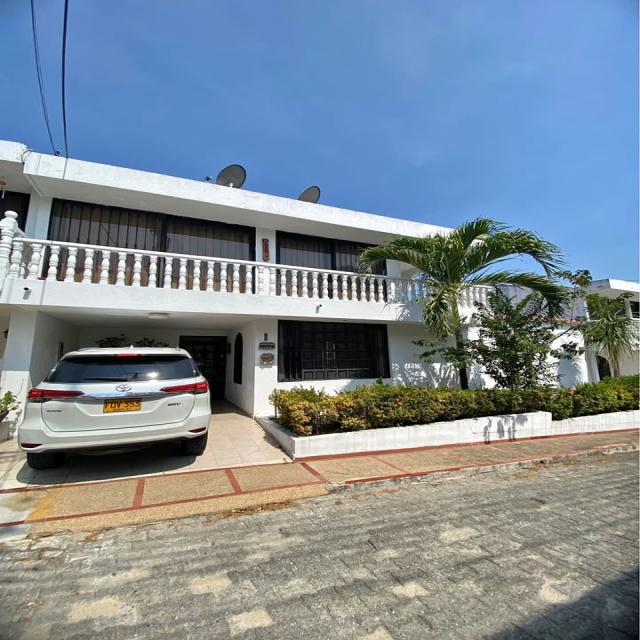Fachada: (0, 141, 458, 415)
